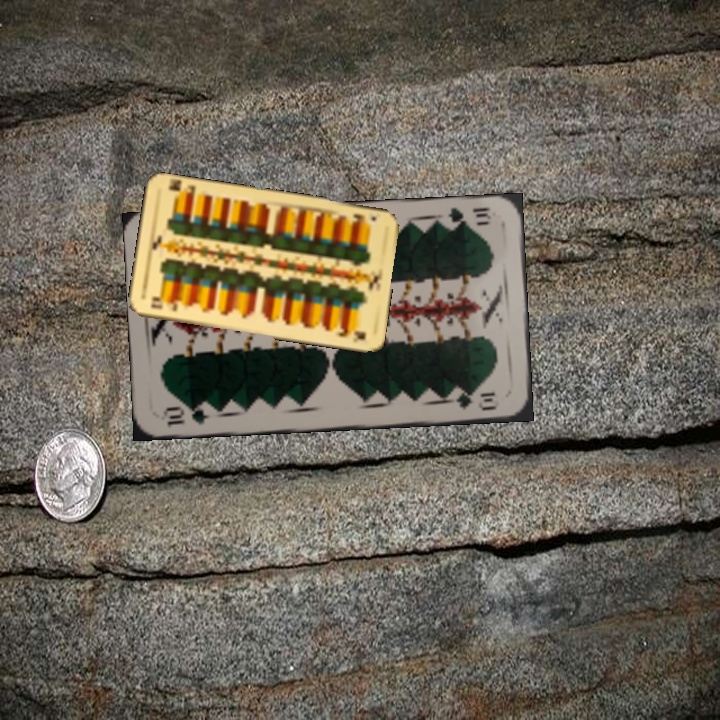E10: (147, 296, 180, 314), (349, 209, 379, 224)
G10: (438, 203, 494, 231), (157, 402, 212, 430)
